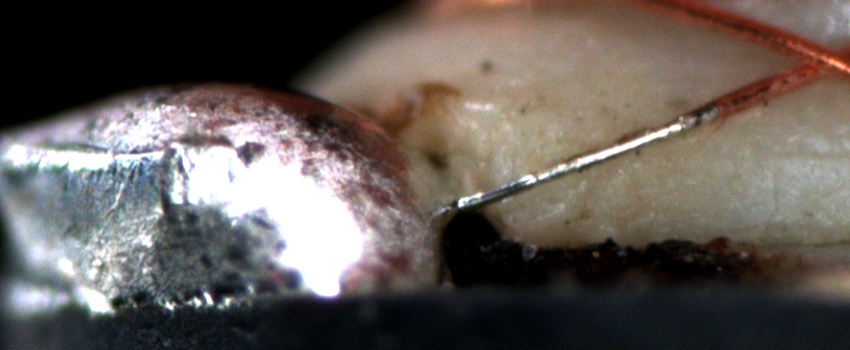CL: (770, 31, 843, 88)
DL: (741, 135, 850, 187)
TS: (454, 103, 719, 213)
